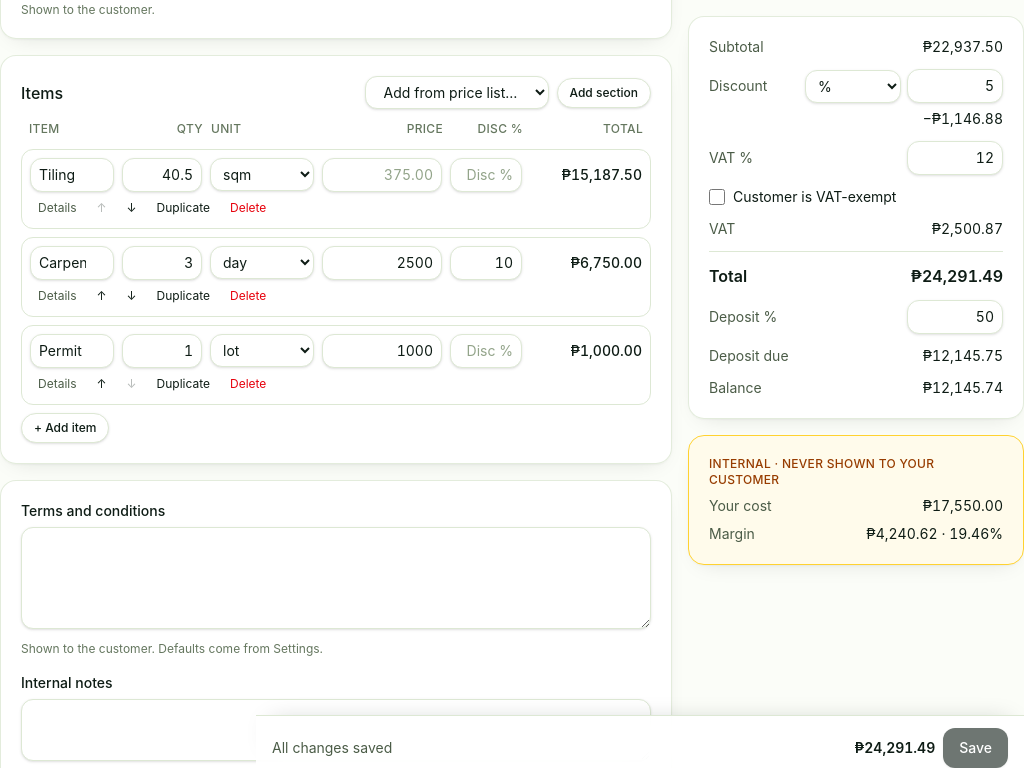
Test: quote builder › deleting a line removes it from the totals
(page scrolled)
Click the button with aria-label "Delete line 3" at {"x": 248, "y": 384}, box x1=222 y1=372 x2=274 y2=396
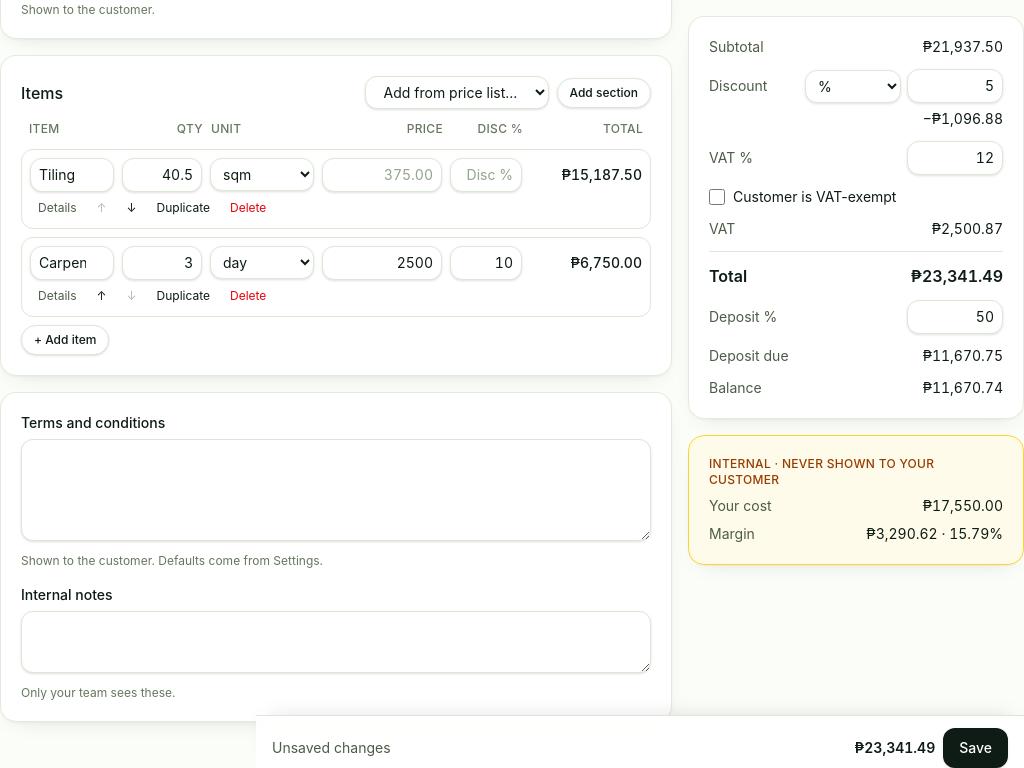
Now the text "₱21,937.50" is shown, box x1=923 y1=37 x2=1003 y2=57
